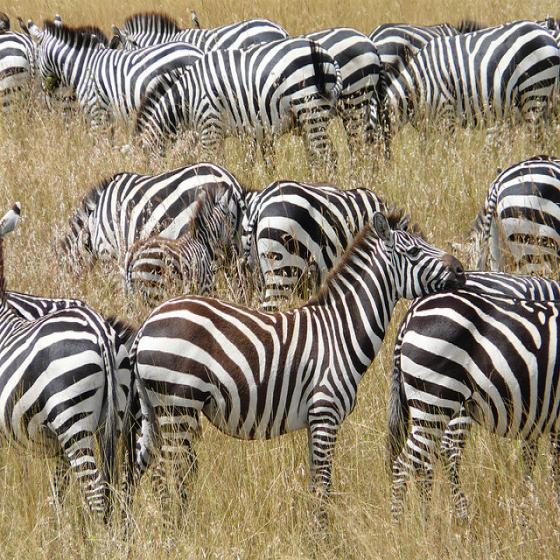zebra: (121, 205, 467, 530), (0, 201, 131, 532), (381, 289, 560, 525), (362, 21, 560, 189), (59, 164, 253, 324), (132, 38, 344, 179), (27, 12, 204, 132), (246, 177, 382, 308), (291, 27, 382, 180), (471, 155, 560, 276), (368, 18, 491, 88), (128, 234, 219, 312)
